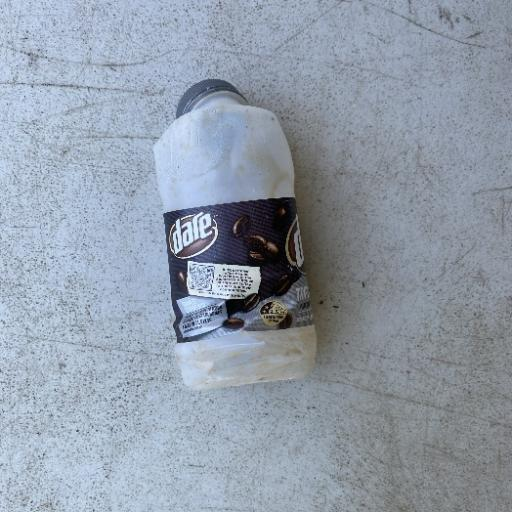Plastic: (150, 77, 320, 392)
